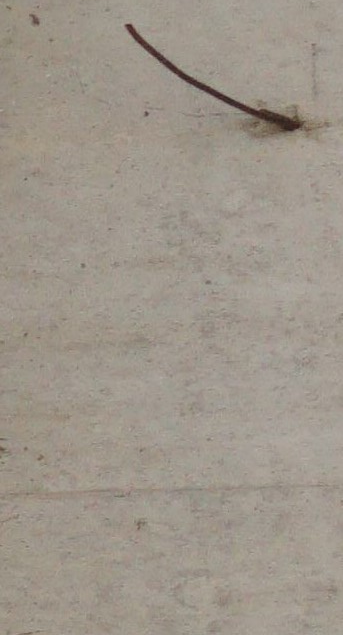Exposed reinforcement: (124, 23, 301, 132)
